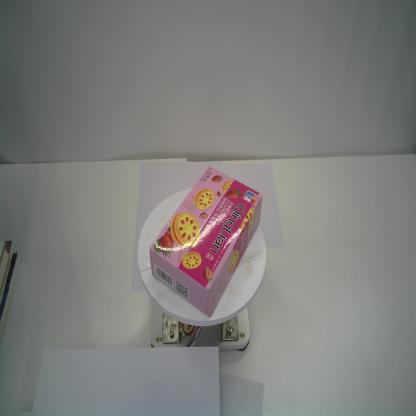Dessert: (148, 164, 262, 319)
